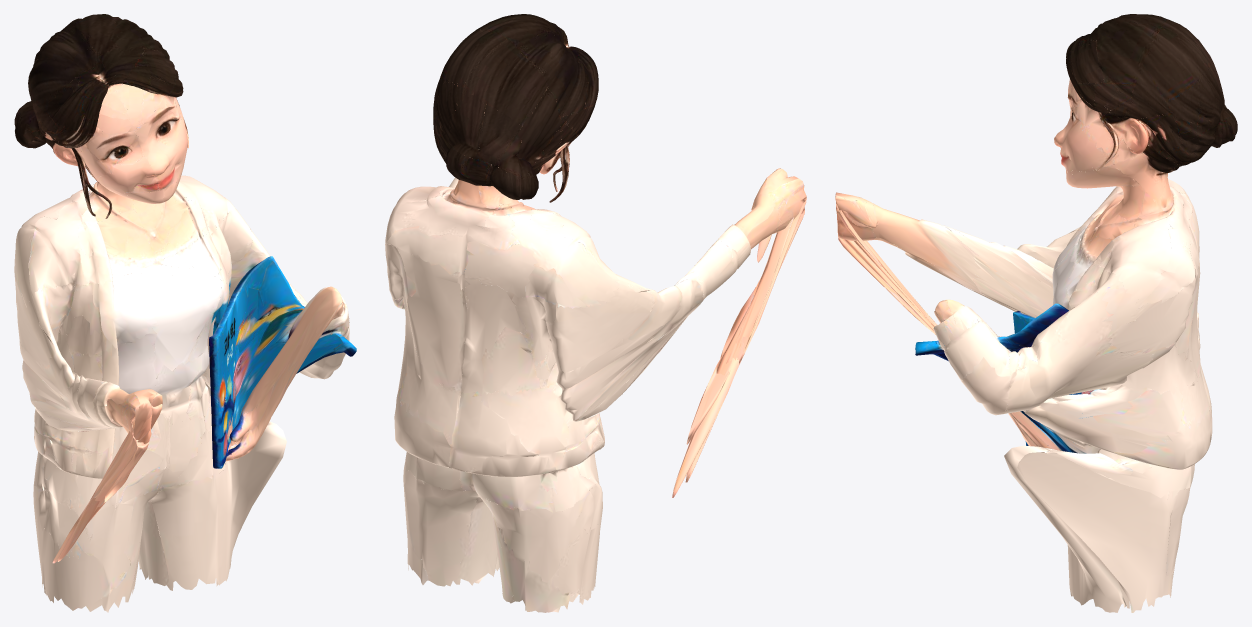
Rendered from teacher-science.glb.
3 renders of one model, left to right at view 1: azimuth 30°, elevation 25°; view 2: azimuth 150°, elevation 25°; view 3: azimuth 270°, elevation 25°, orthographic. The views are drawn at different scales.
Parts seen in each view (by area): view 1: teacher-science-운전자; view 2: teacher-science-운전자; view 3: teacher-science-운전자.
Boxes of the visible parts, x1=… form: teacher-science-운전자: x1=14, y1=14, x2=356, y2=612; teacher-science-운전자: x1=385, y1=14, x2=806, y2=612; teacher-science-운전자: x1=835, y1=14, x2=1237, y2=612.
Bounding box in the file's own units: 0.5741 × 1.06 × 0.7085.
1 material, 1 textured.
